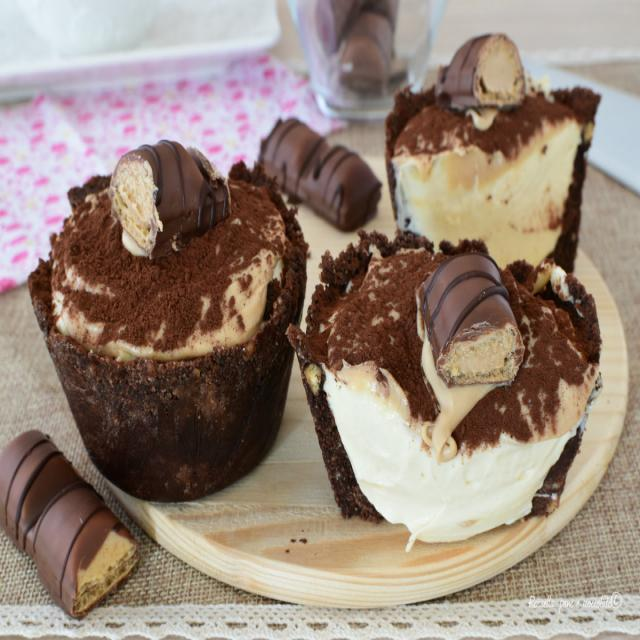Chocolate bar packaged: (1, 431, 142, 615), (415, 257, 529, 390), (255, 116, 384, 230)
